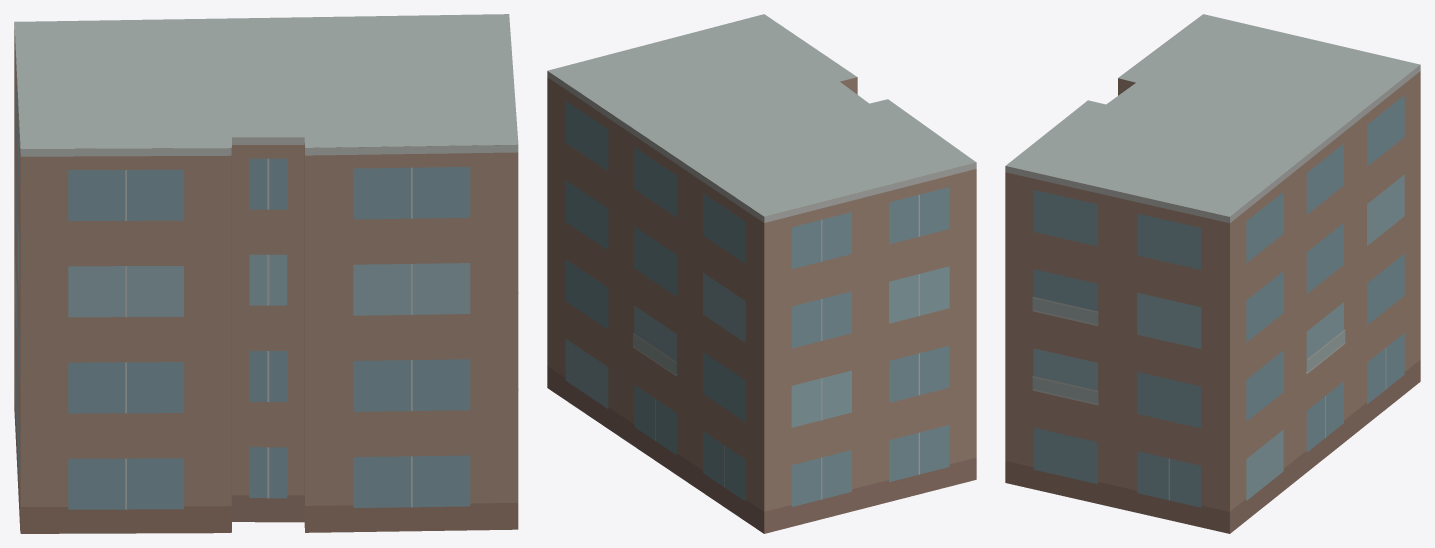
File: survey-upis-32739444.glb
3 renders of one model, left to right at view 1: azimuth 30°, elevation 25°; view 2: azimuth 150°, elevation 25°; view 3: azimuth 270°, elevation 25°, orthographic. The views are drawn at different scales.
Parts seen in each view (by area): view 1: survey-upis-32739444.tmp; view 2: survey-upis-32739444.tmp; view 3: survey-upis-32739444.tmp.
Boxes of the visible parts, x1,y1,x2,y2 form: survey-upis-32739444.tmp: (14,14,518,533); survey-upis-32739444.tmp: (547,14,976,533); survey-upis-32739444.tmp: (1005,14,1420,533).
Bounding box in the file's own units: 16.76 × 12.2 × 14.49.
